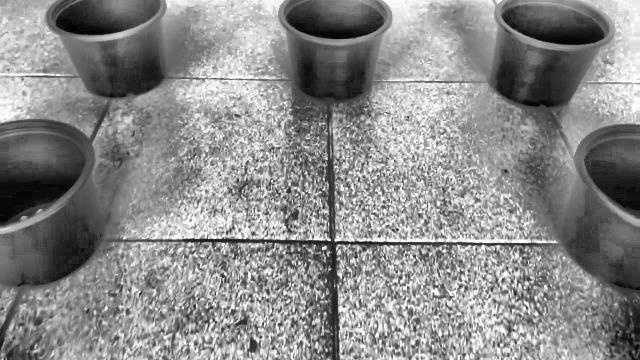pot: (0, 120, 104, 289), (490, 0, 616, 109), (560, 125, 640, 293), (44, 0, 168, 100), (278, 0, 392, 102)
